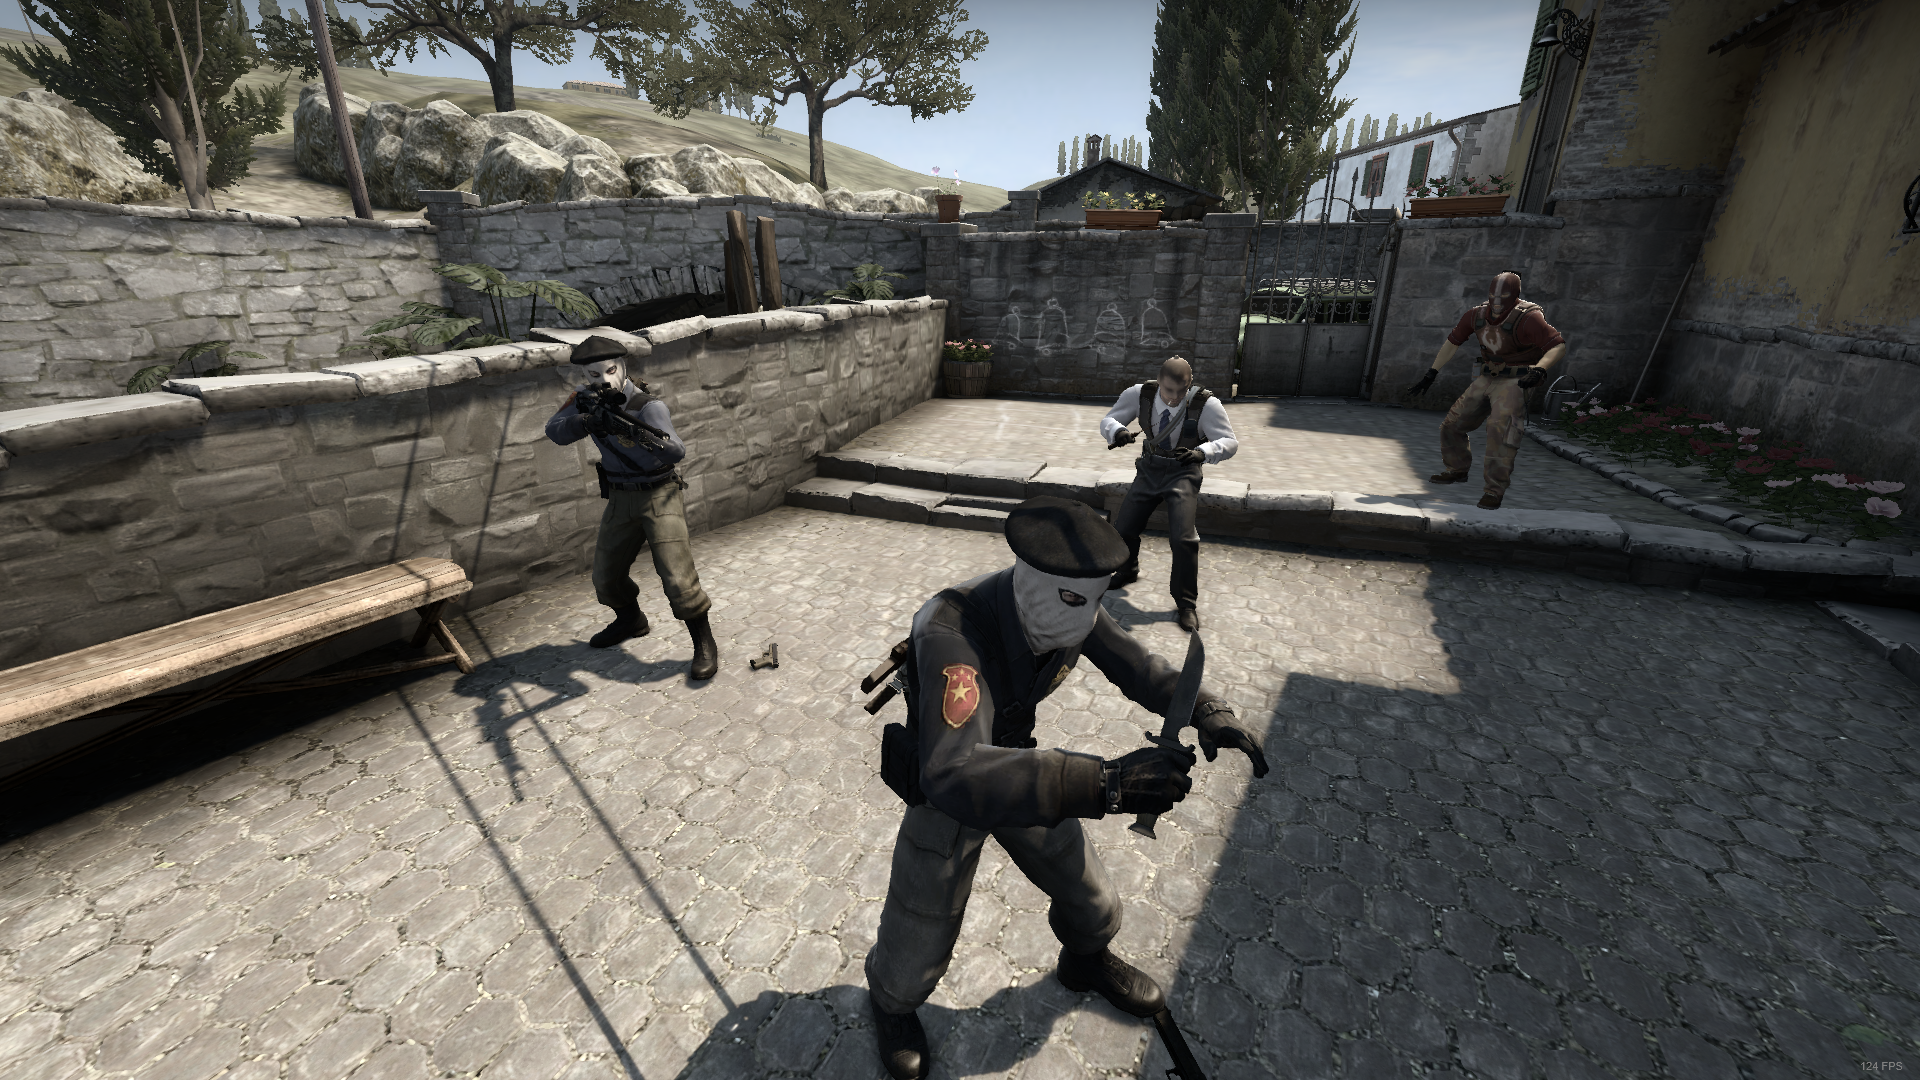t: (833, 491, 1262, 1076), (543, 324, 731, 686)
